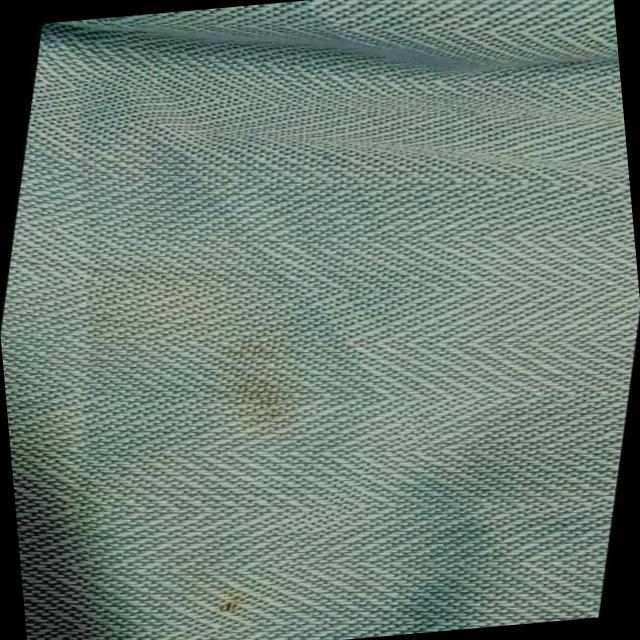stain: (41, 238, 349, 450), (200, 576, 262, 626)
